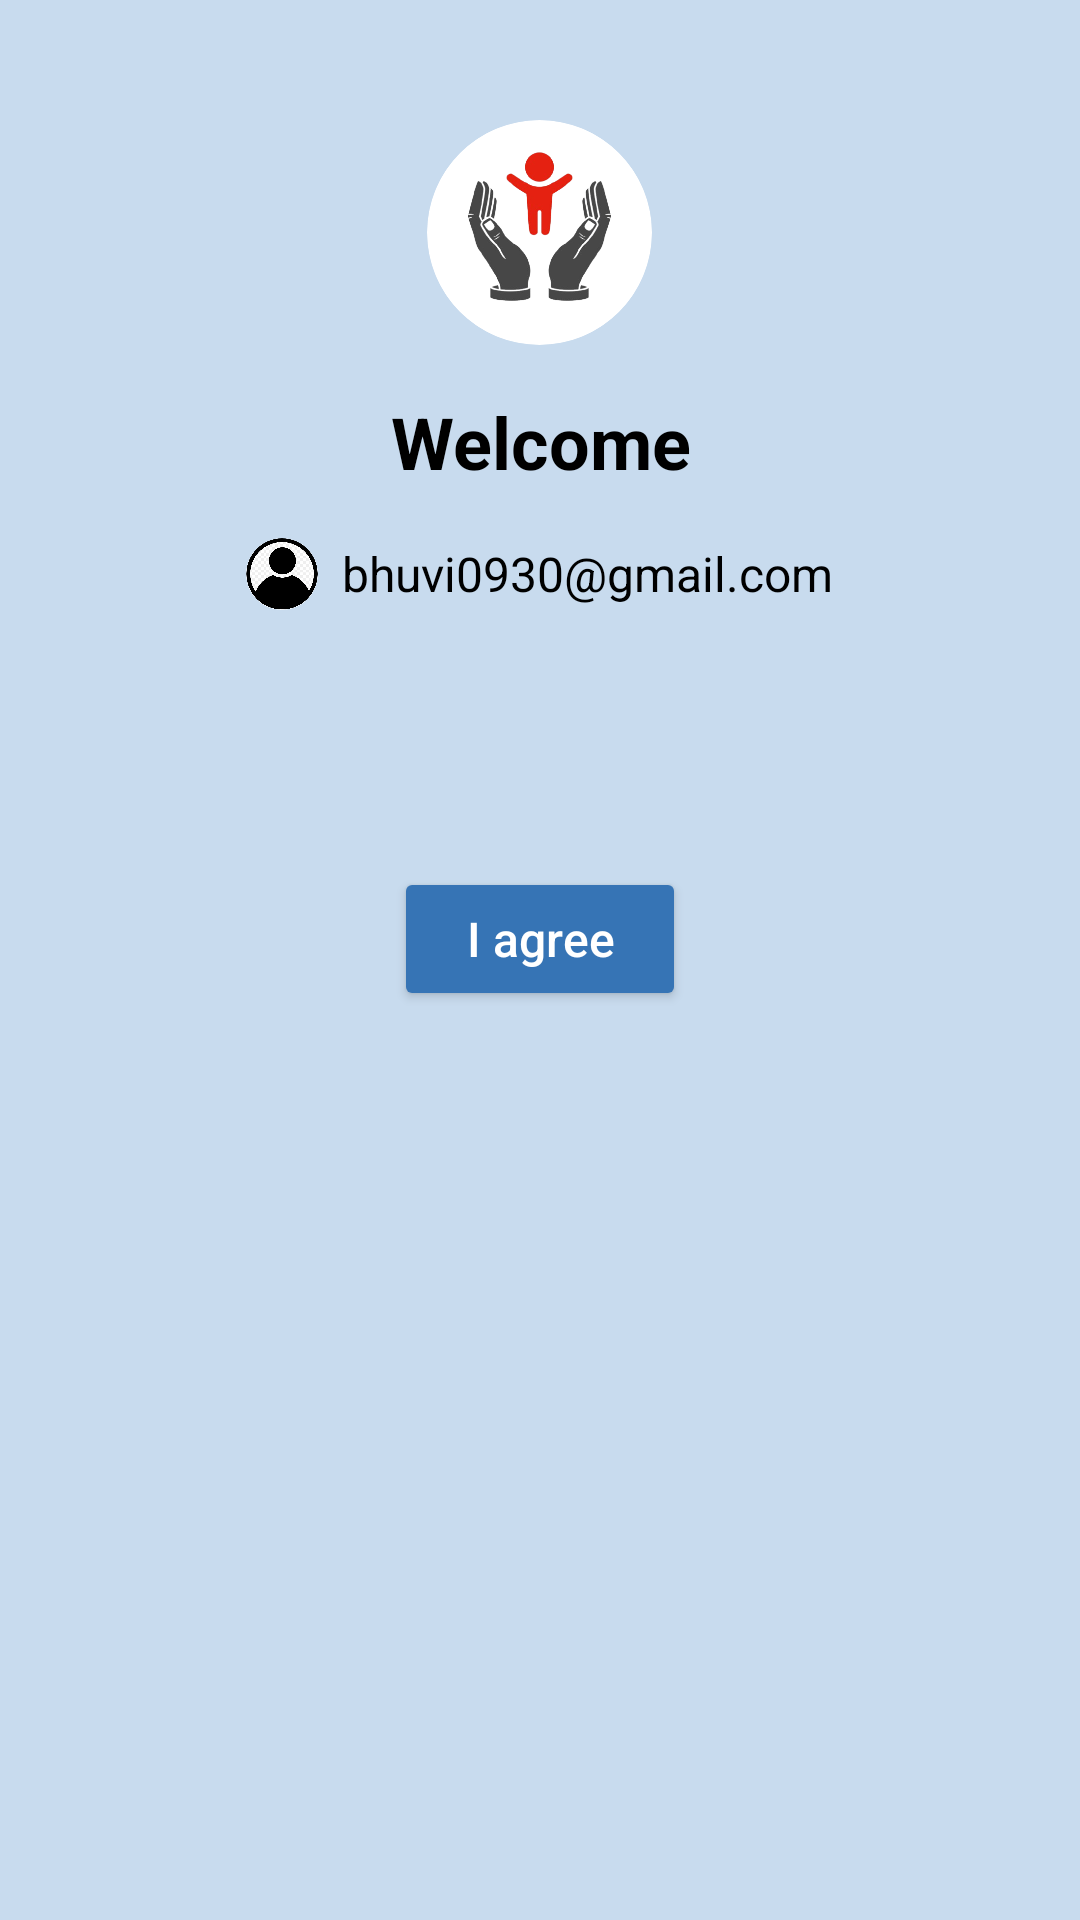

Icon bounding boxes for this 1080px×1920px phone screenshot, format (left=x1, top=y1, right=x2, bottom=y2):
User Icon: (left=246, top=538, right=318, bottom=610)
